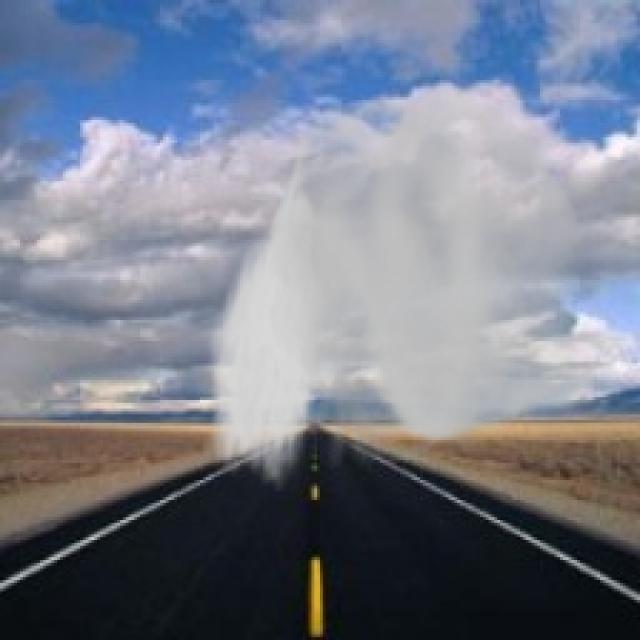smoke: (203, 71, 597, 492)
